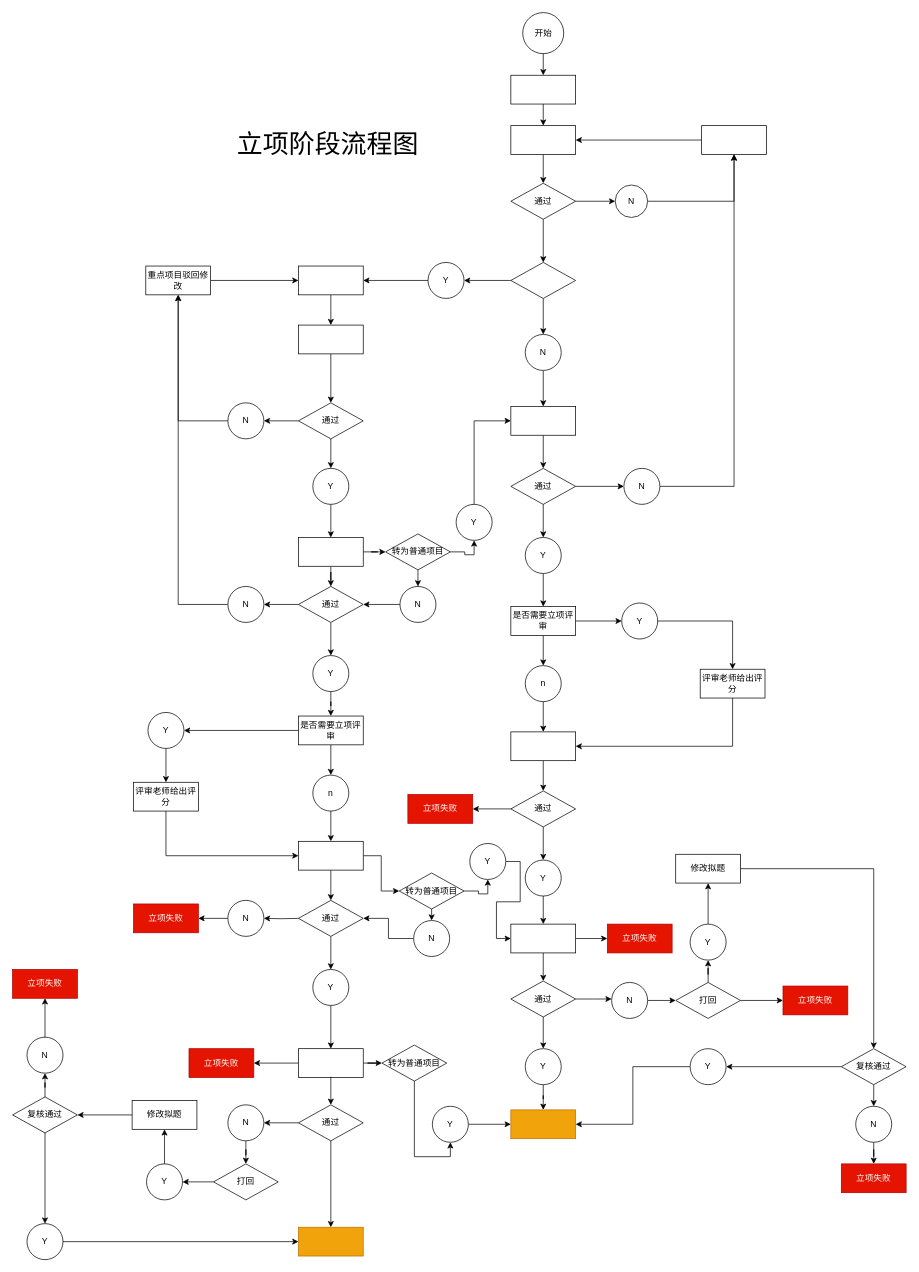
Some shapes in this 919 by 1272 pixel diagram are drawn without their labels. Each missing label, with the centre of its shape:
学院普通项目审核: the point at 543,746
学院重点项目审核: the point at 330,855
实验室拟题审核: the point at 543,139
实验室普通项目审核: the point at 543,420
实验室重点项目审核: the point at 330,551
拟题驳回修改: the point at 733,139
指导老师审核: the point at 330,339
教师拟题: the point at 543,89
是否为重点项目: the point at 543,280
普通项目立项: the point at 543,1124
组长填写重点申请书，并提交重点申请: the point at 330,280
职能部门普通项目审核: the point at 543,938
职能部门重点项目审核: the point at 330,1062
重点项目立项: the point at 330,1241
